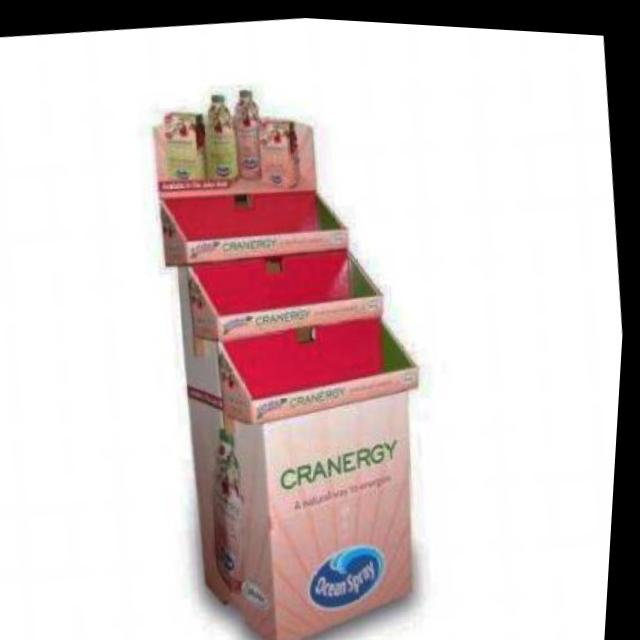box: (110, 41, 473, 640)
